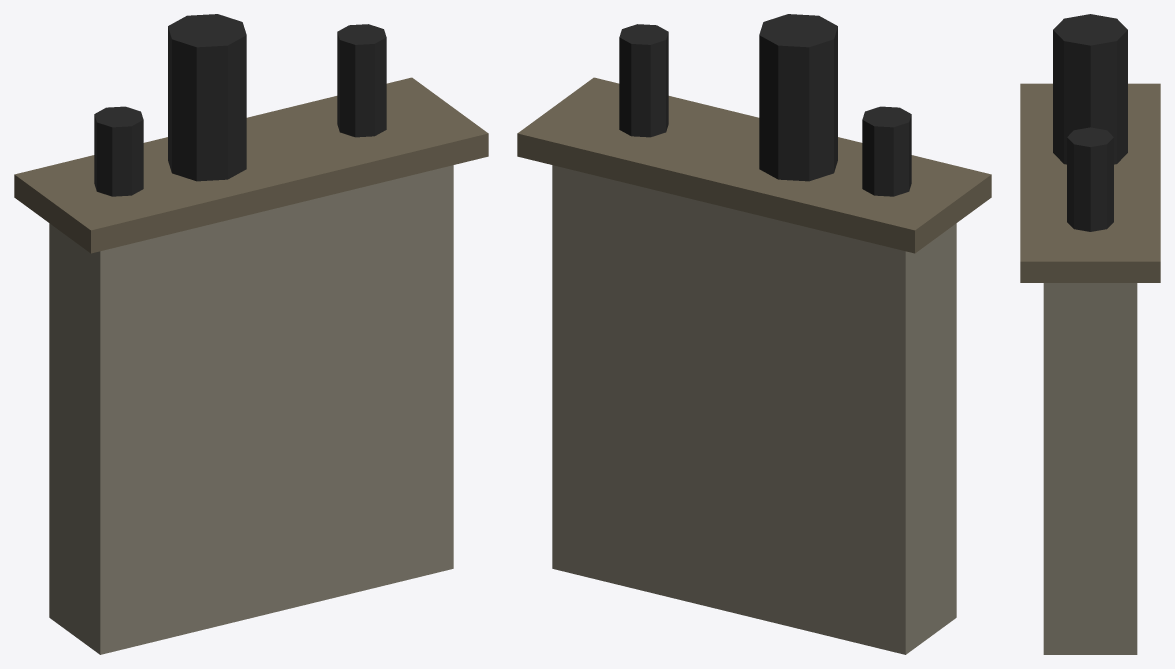
The model's file is Chimney.fbx.
3 views of the same model, side by side, from view 1: azimuth 30°, elevation 25°; view 2: azimuth 150°, elevation 25°; view 3: azimuth 270°, elevation 25° (orthographic). The views are drawn at different scales.
Parts seen in each view (by area): view 1: Chimney; view 2: Chimney; view 3: Chimney.
Part boxes in pixels (x1,y1,x2,y2): Chimney: [14, 14, 488, 654]; Chimney: [517, 14, 991, 654]; Chimney: [1020, 14, 1160, 654].
Bounding box in the file's own units: 108 × 149 × 36.
